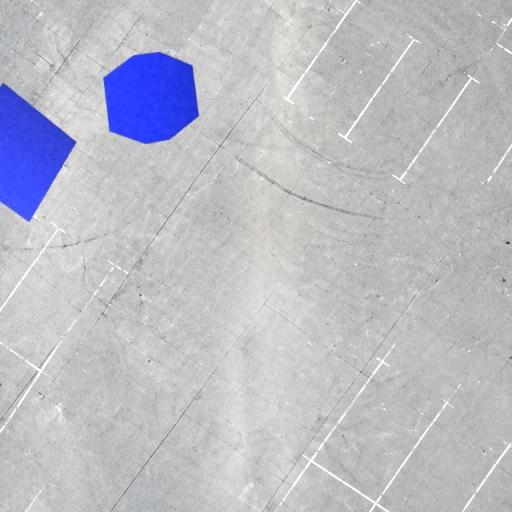BLUE_SQUARE: (0, 82, 78, 222)
